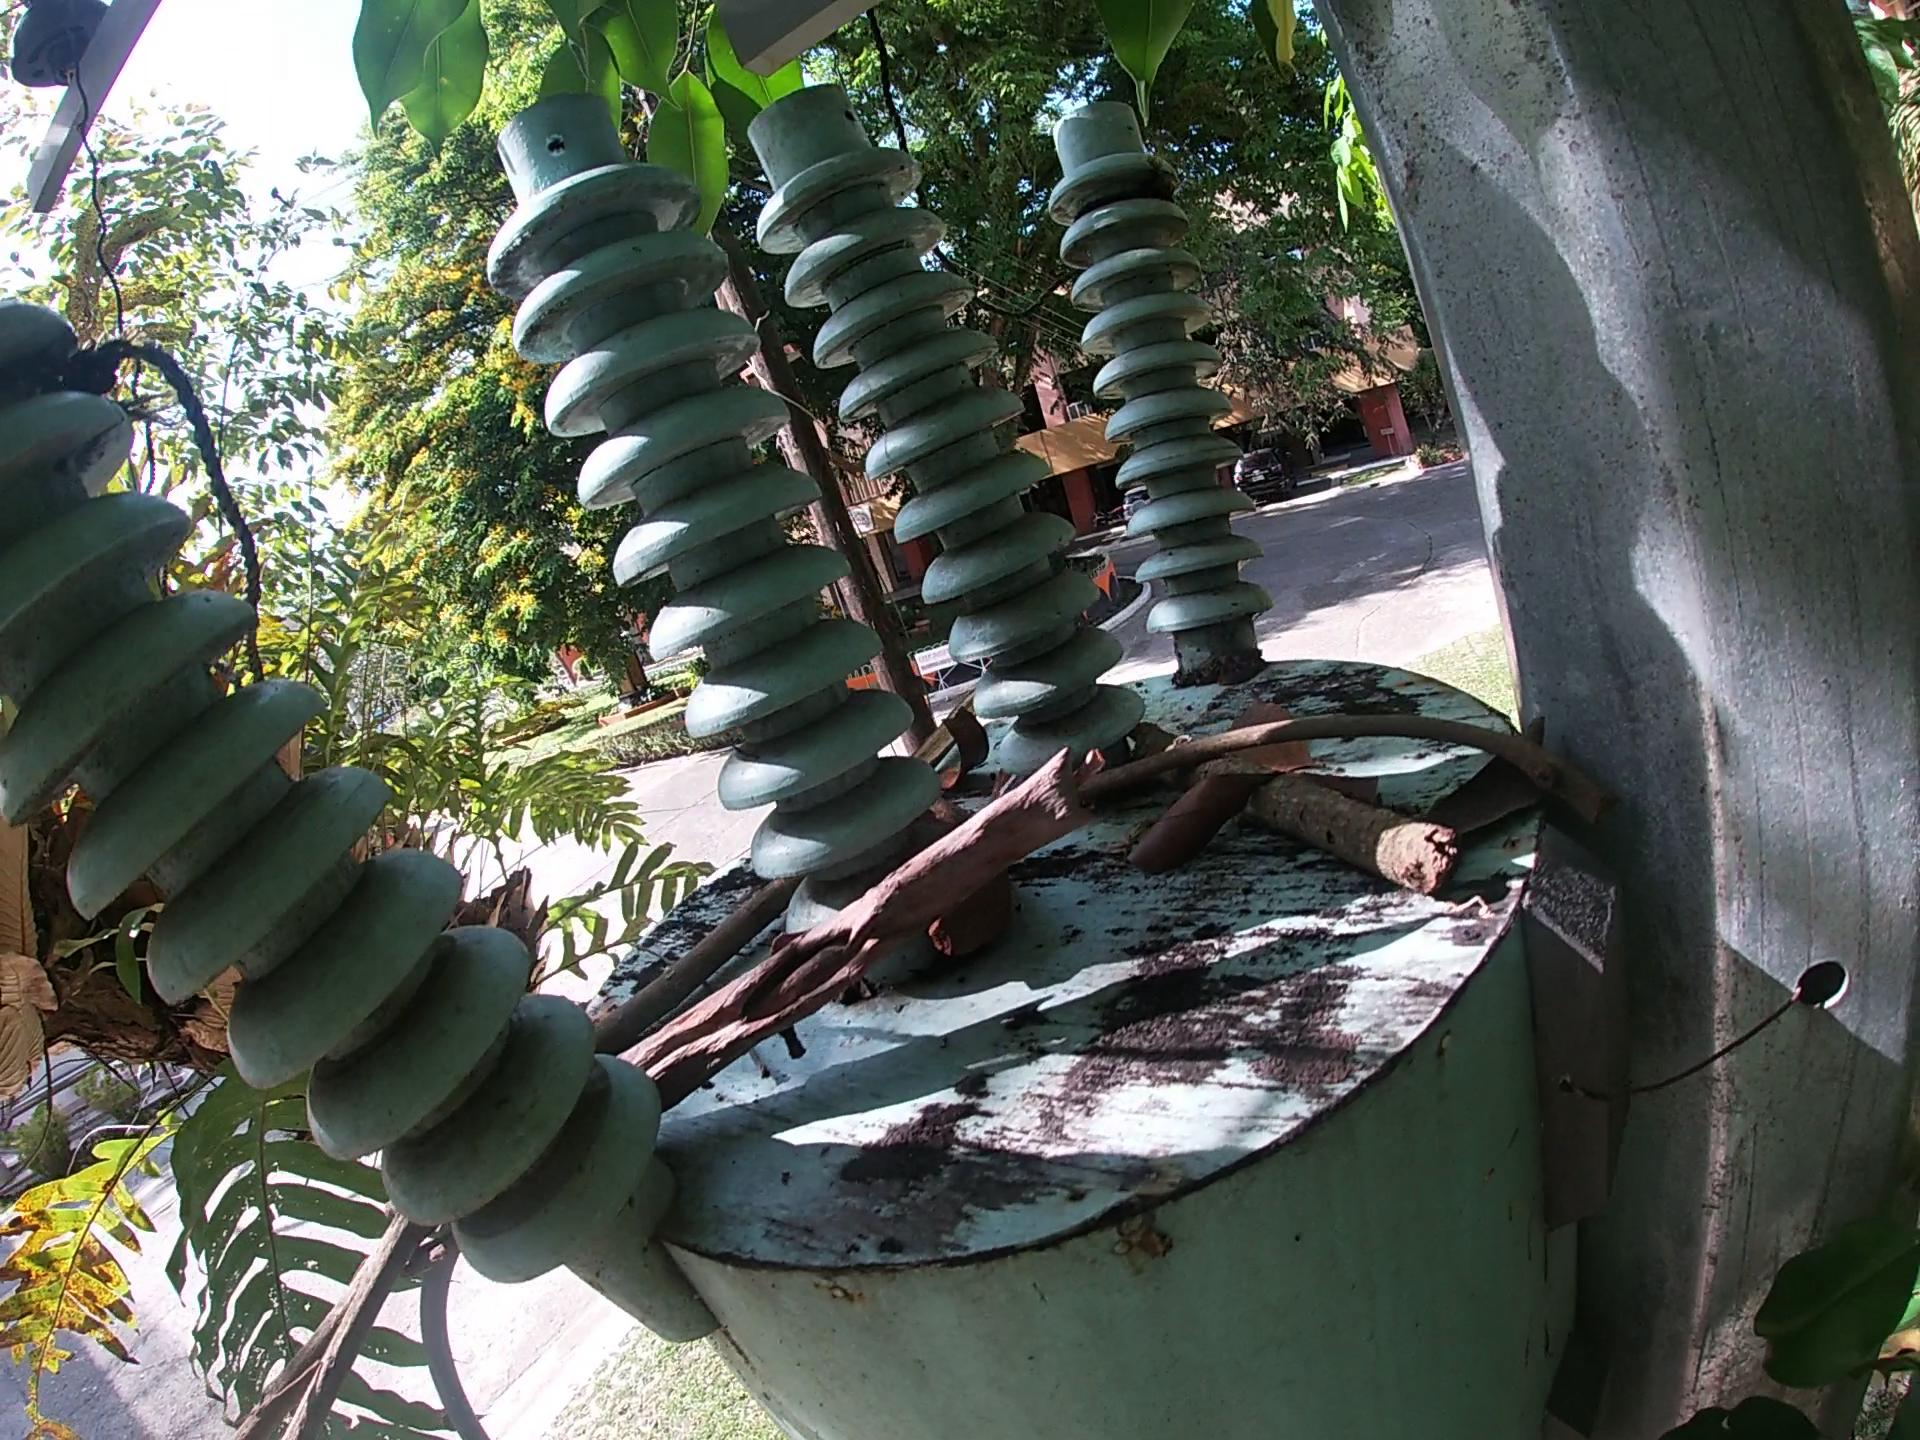leaf: (1438, 703, 1566, 827), (1132, 771, 1243, 861), (1225, 684, 1323, 750)
mahogany fruit: (907, 876, 1039, 980), (952, 711, 993, 788), (928, 805, 968, 827)
tree branch: (617, 749, 1114, 1103), (219, 1206, 461, 1440), (1143, 734, 1479, 886), (1064, 717, 1615, 787), (611, 877, 791, 1042), (913, 696, 972, 767), (750, 1032, 776, 1075)
